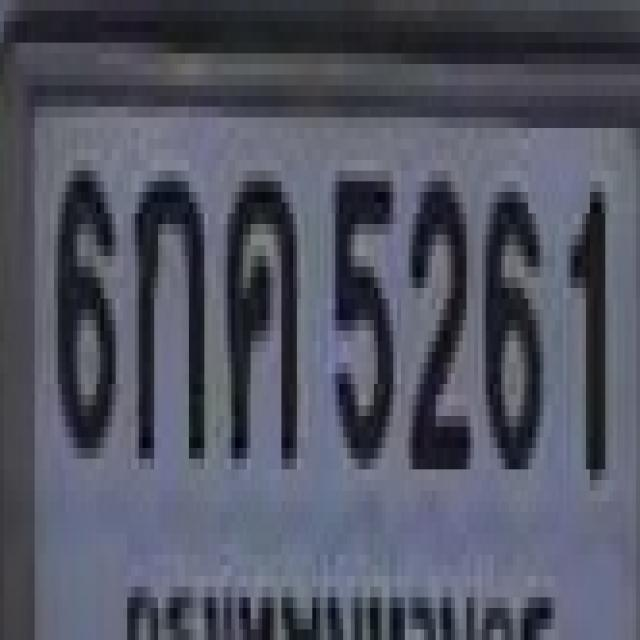1: (567, 182, 601, 469)
2: (405, 170, 466, 458)
5: (332, 160, 389, 459)
6: (54, 160, 112, 448), (482, 181, 540, 459)
A01: (131, 160, 201, 448)
A04: (224, 165, 293, 454)
